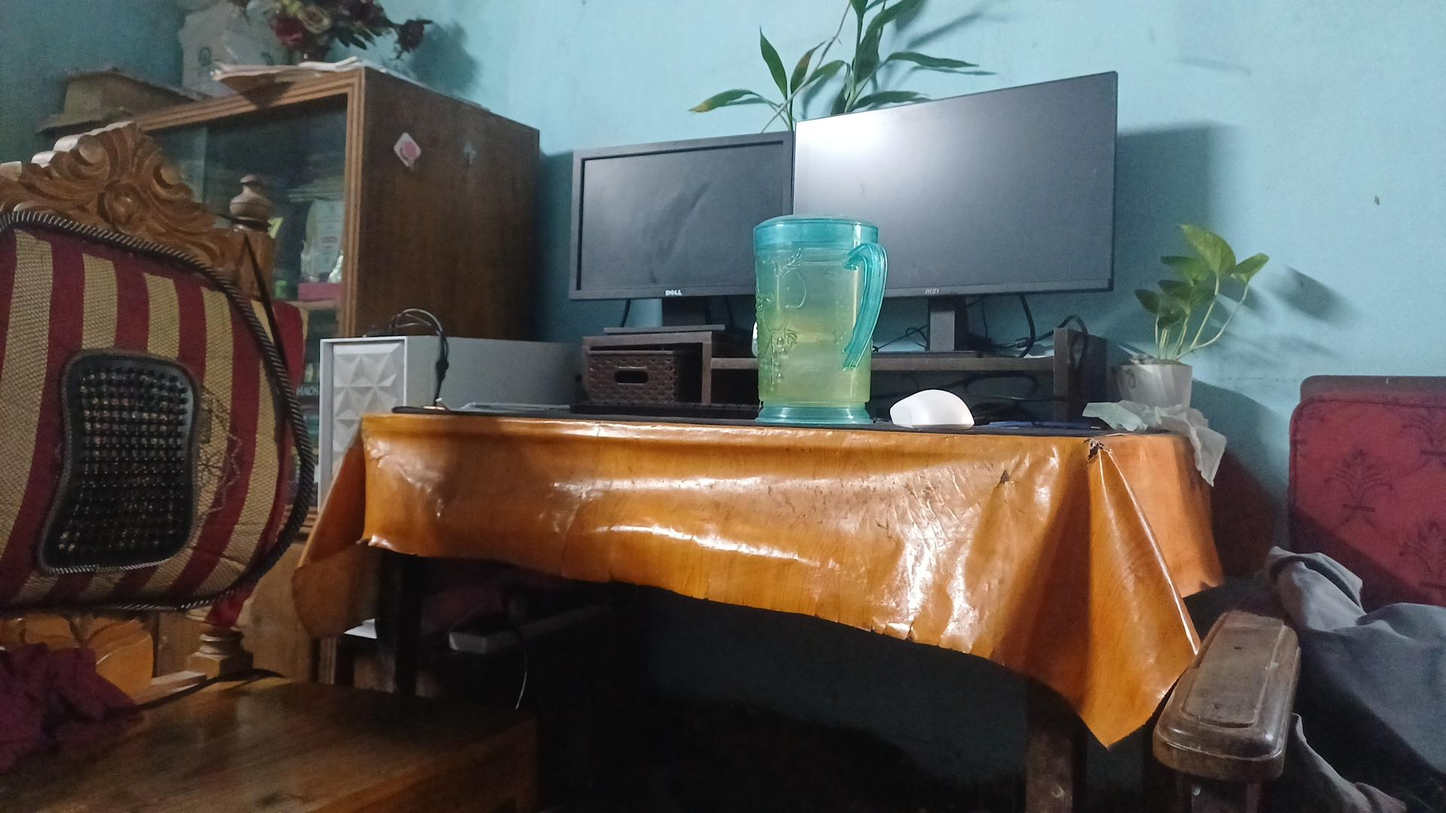Chair: (11, 115, 388, 802)
Jug: (733, 199, 899, 440)
Monitor: (775, 92, 1140, 293), (559, 131, 800, 310)
Mouse: (896, 380, 988, 446)
Plant: (1111, 200, 1239, 430)
